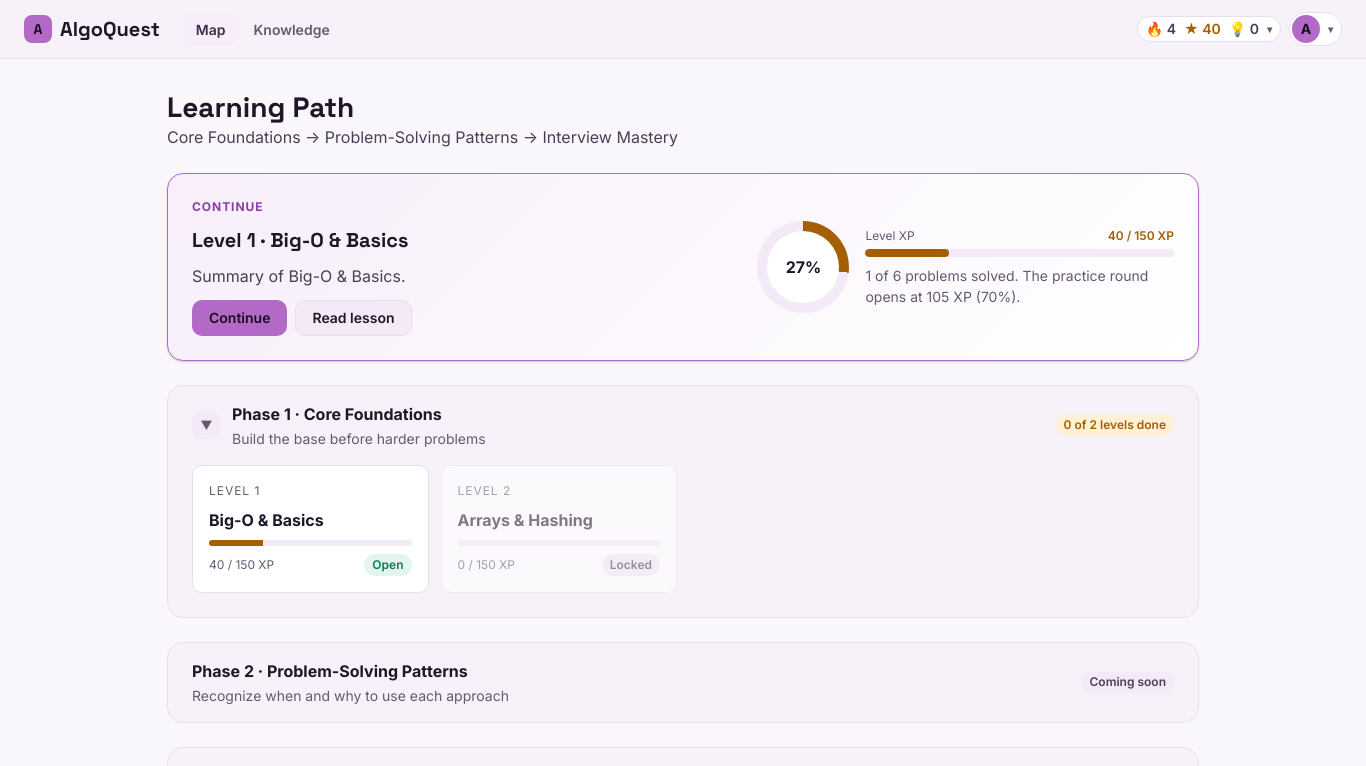
Test: profile › shows the main navigation and no Admin link for a player
Expected: the link "Knowledge" is shown, [254,20,330,38]
# Progress and account details sit in two small menus.
What coordinates should you click on to do the following:
click the button named "Your progress"
I would click on:
 (1209, 29)
Its box is [1137,16,1281,42].
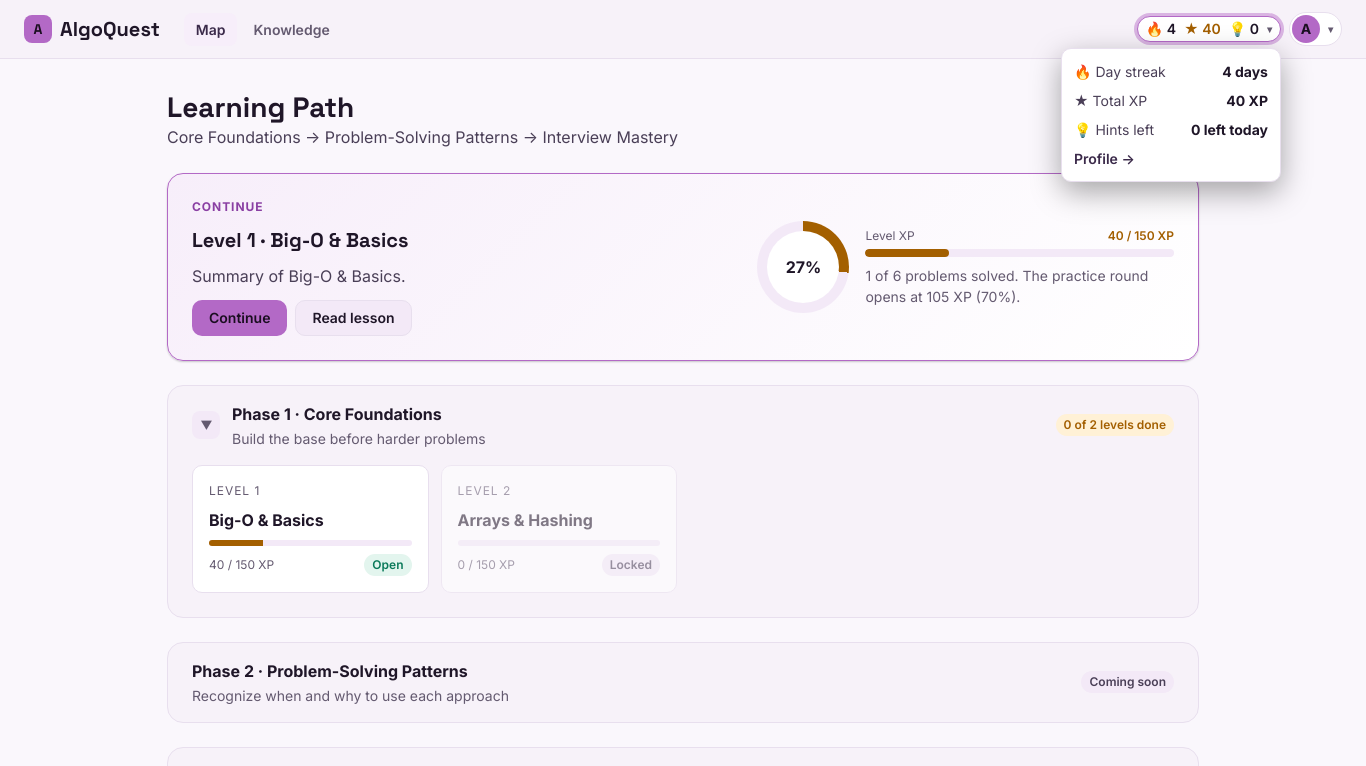
Result: the text "★ Total XP" is shown at [1074,90,1147,111]
What coordinates should you click on to do the following:
click the button named "Account menu"
I would click on:
 (1316, 29)
Its box is [1289,12,1342,46].
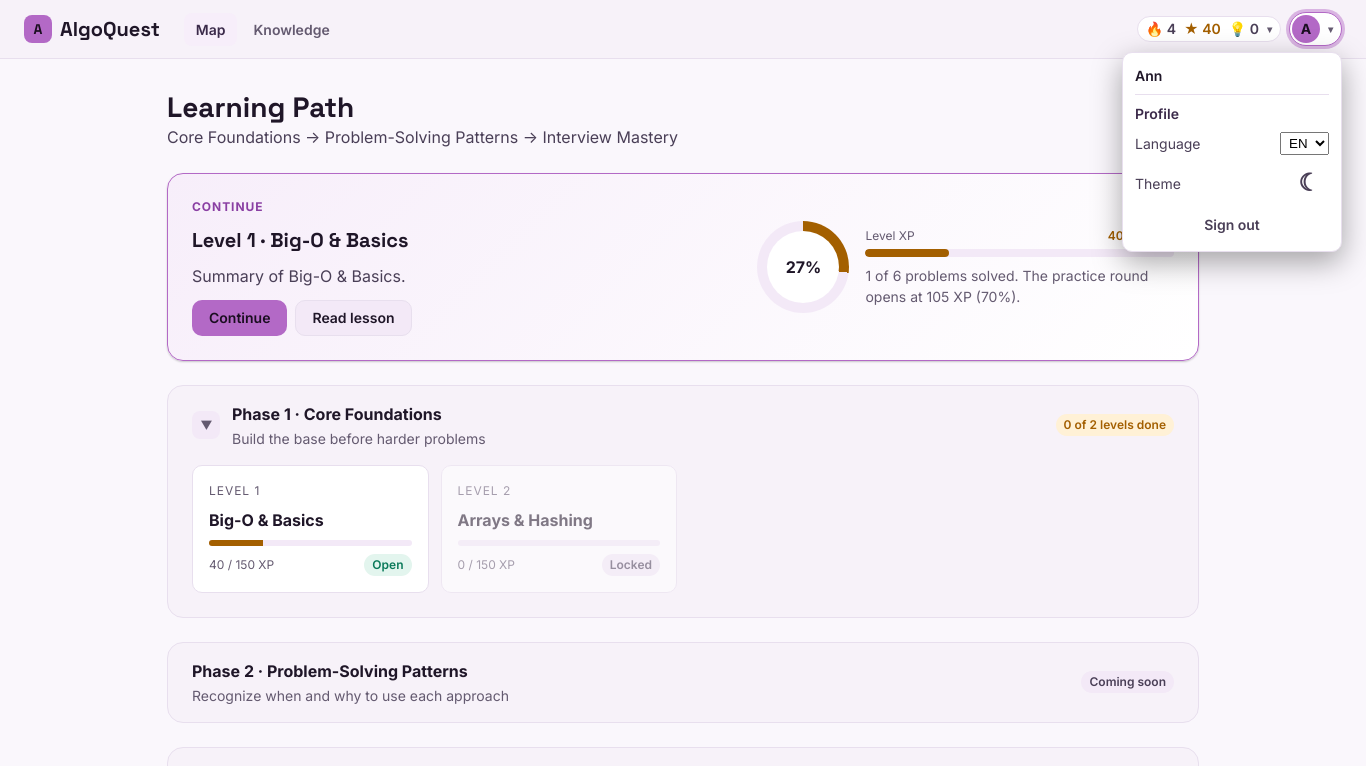
Result: the button "Sign out" is shown at [1135,211,1329,239]
